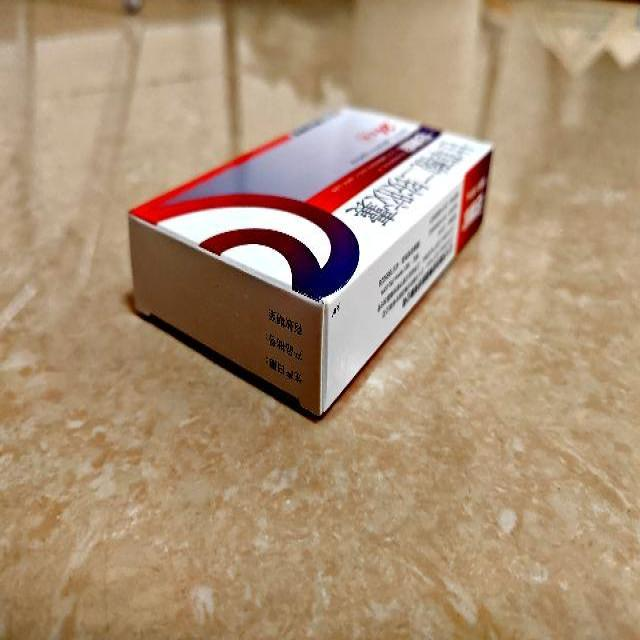box: (129, 106, 493, 422)
